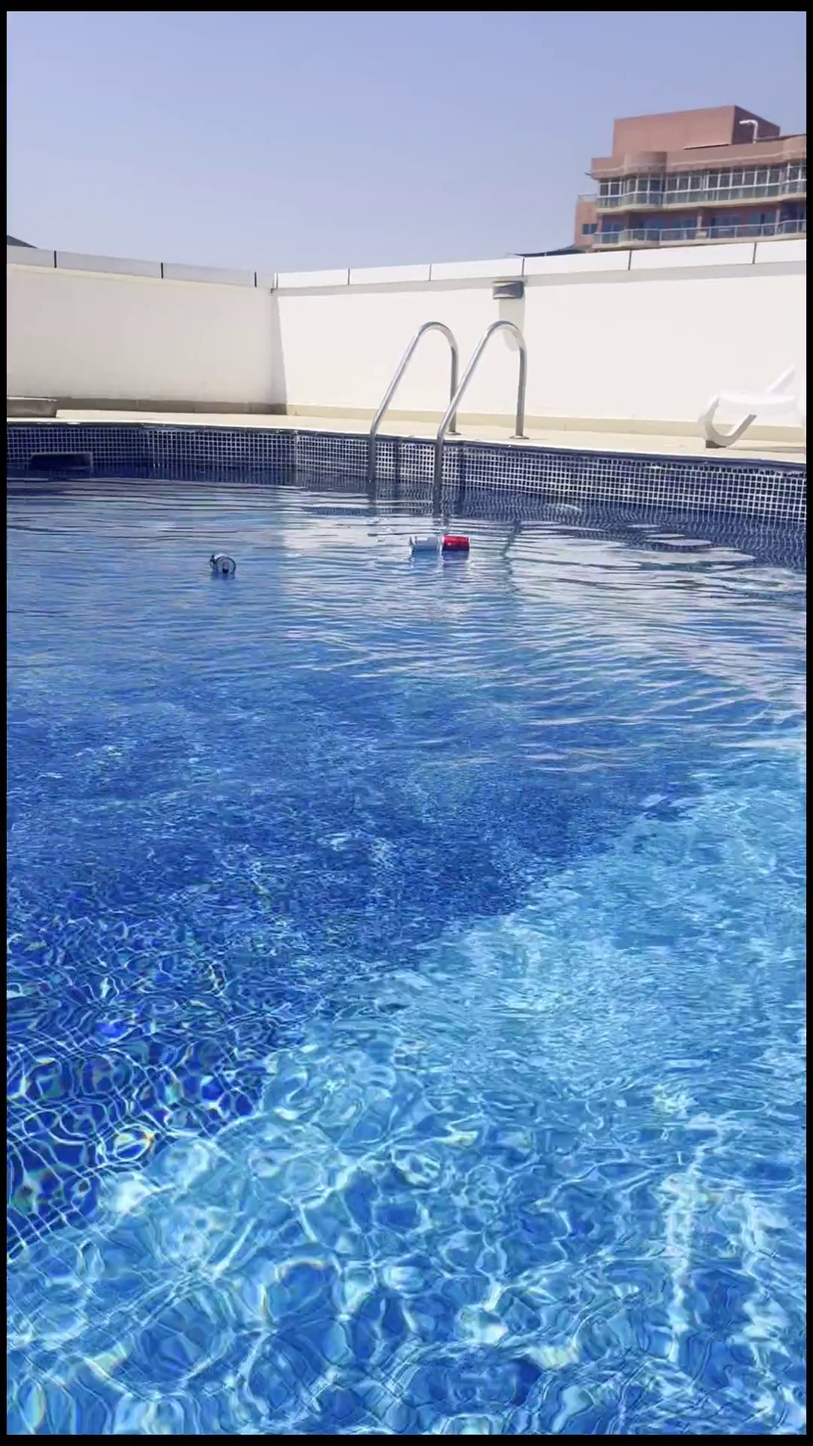debris: (205, 541, 239, 590), (434, 522, 470, 566), (403, 520, 437, 563)
